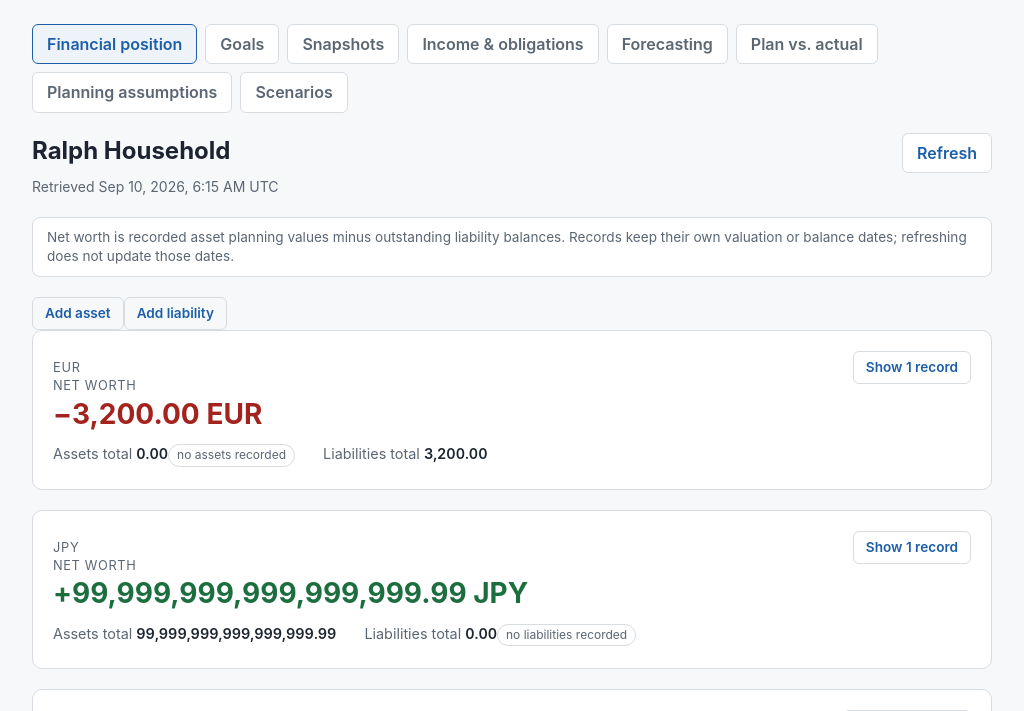
it: populated financial position › shows a liabilities-only currency with an explicit empty asset side, not a fabricated zero row
The width and height of the screenshot is (1024, 711).
Check: the heading "Ralph Household" is shown, box [32,134,230,167]
Click the 1st button "Show 1 record": click(912, 367) [853,351,971,384]
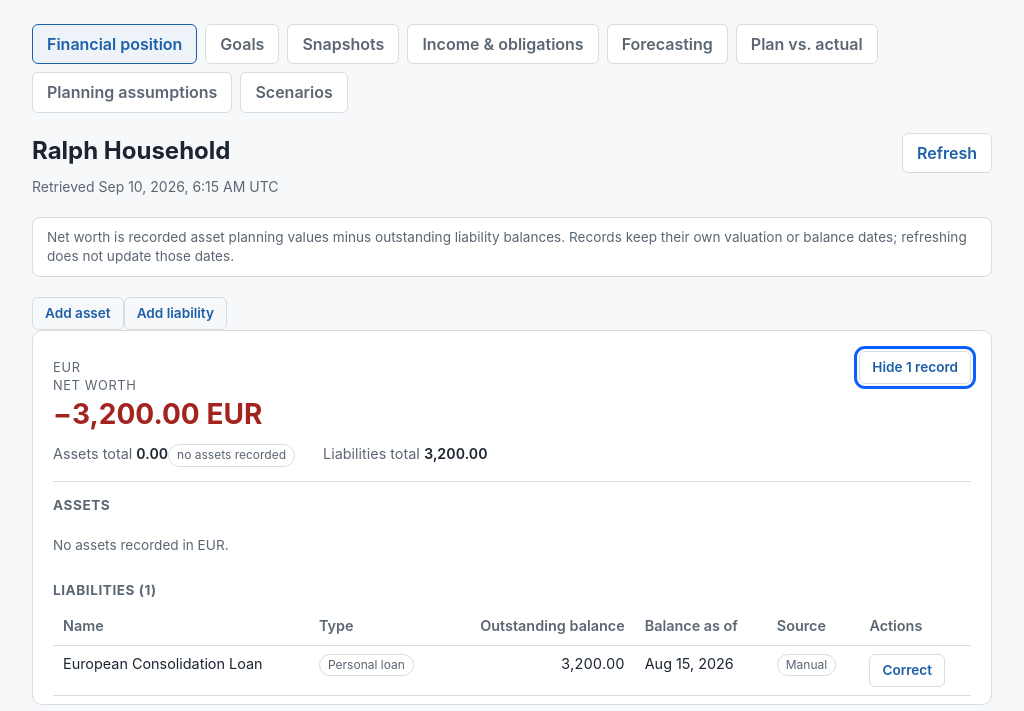
Check: the text "No assets recorded in EUR." is shown, box [53,537,229,553]
